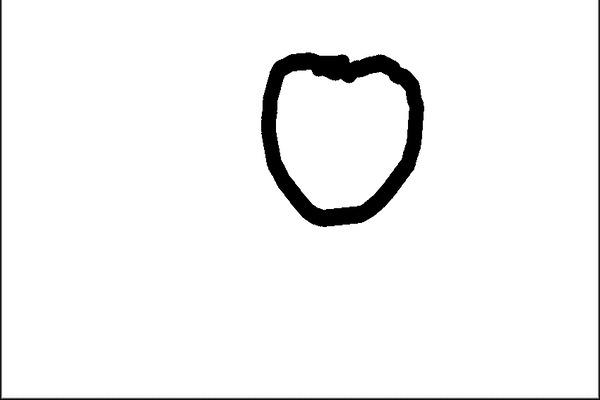O: (253, 45, 431, 239)
